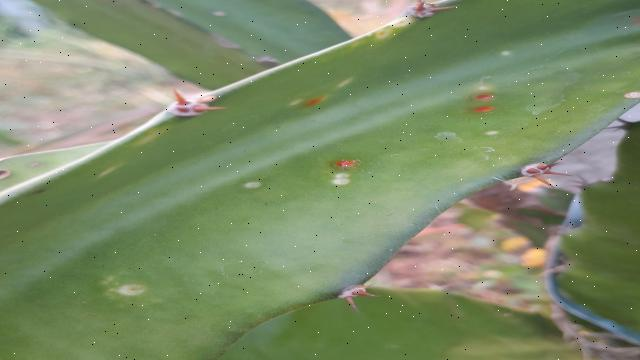stemcanker: (467, 86, 503, 117), (328, 156, 362, 174), (299, 93, 329, 112)
